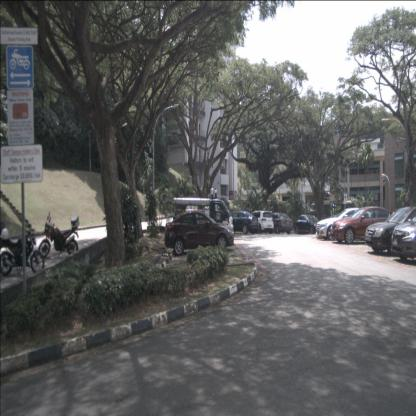human-pedestrian-adult: (211, 186, 214, 201), (210, 187, 213, 201), (150, 184, 152, 200), (143, 184, 145, 196), (215, 188, 217, 200)
vehicle-car: (165, 211, 234, 256), (330, 206, 397, 245), (364, 207, 416, 257), (316, 207, 376, 241), (391, 216, 415, 262), (228, 211, 260, 234), (247, 210, 274, 234), (265, 213, 293, 234), (293, 214, 321, 234)
vehicle-motorcycle: (1, 221, 44, 276), (38, 215, 80, 259)
vehicle-truck: (173, 198, 233, 242)
